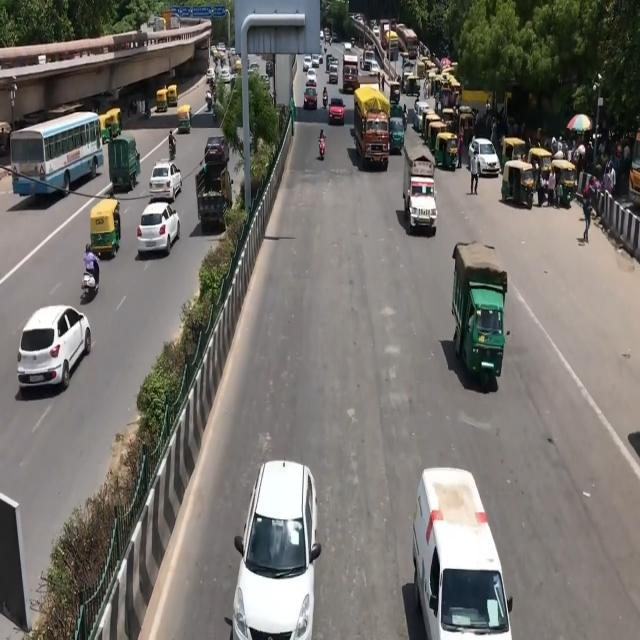Auto: (90, 194, 126, 268)
Bus: (9, 124, 107, 196)
Car: (230, 461, 324, 631), (16, 292, 106, 392), (135, 193, 186, 261)
Scooty: (316, 124, 330, 162)
Tempo: (451, 239, 513, 407), (400, 141, 441, 243), (108, 141, 146, 206)
Truck: (357, 82, 394, 181)
